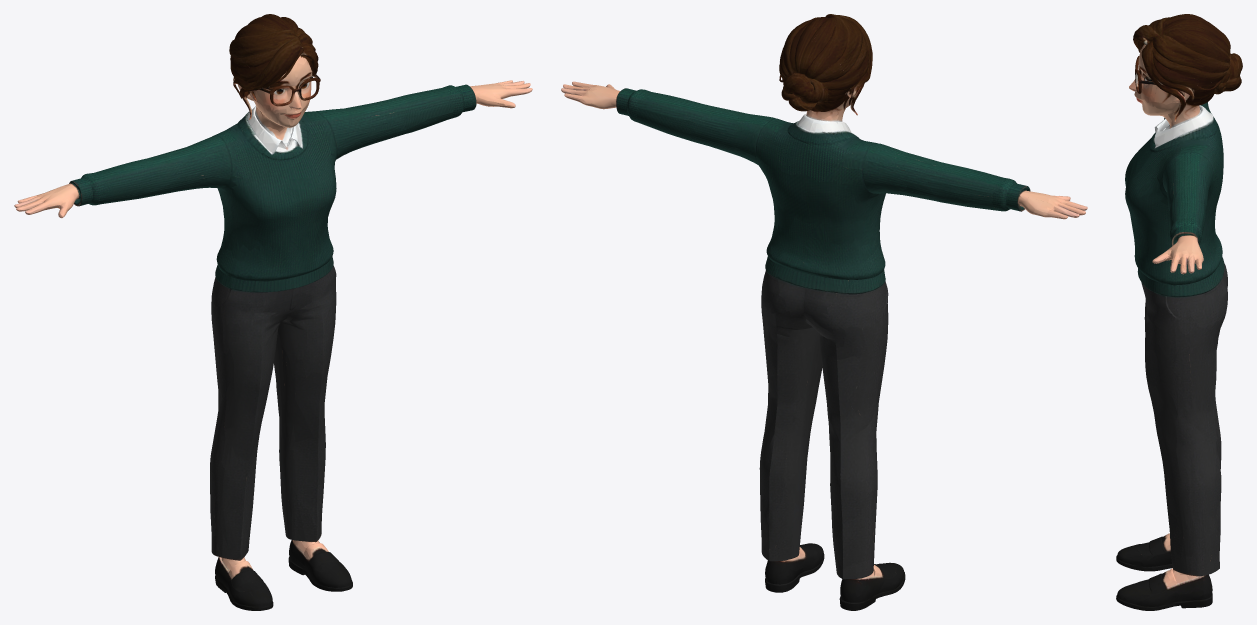
File: AcademicLearner_Meshy71_v001.glb
3 renders of one model, left to right at view 1: azimuth 30°, elevation 25°; view 2: azimuth 150°, elevation 25°; view 3: azimuth 270°, elevation 25°, orthographic.
Size of the model in its own units: 1.82 by 1.9 by 0.3861.
1 material, 1 textured.
